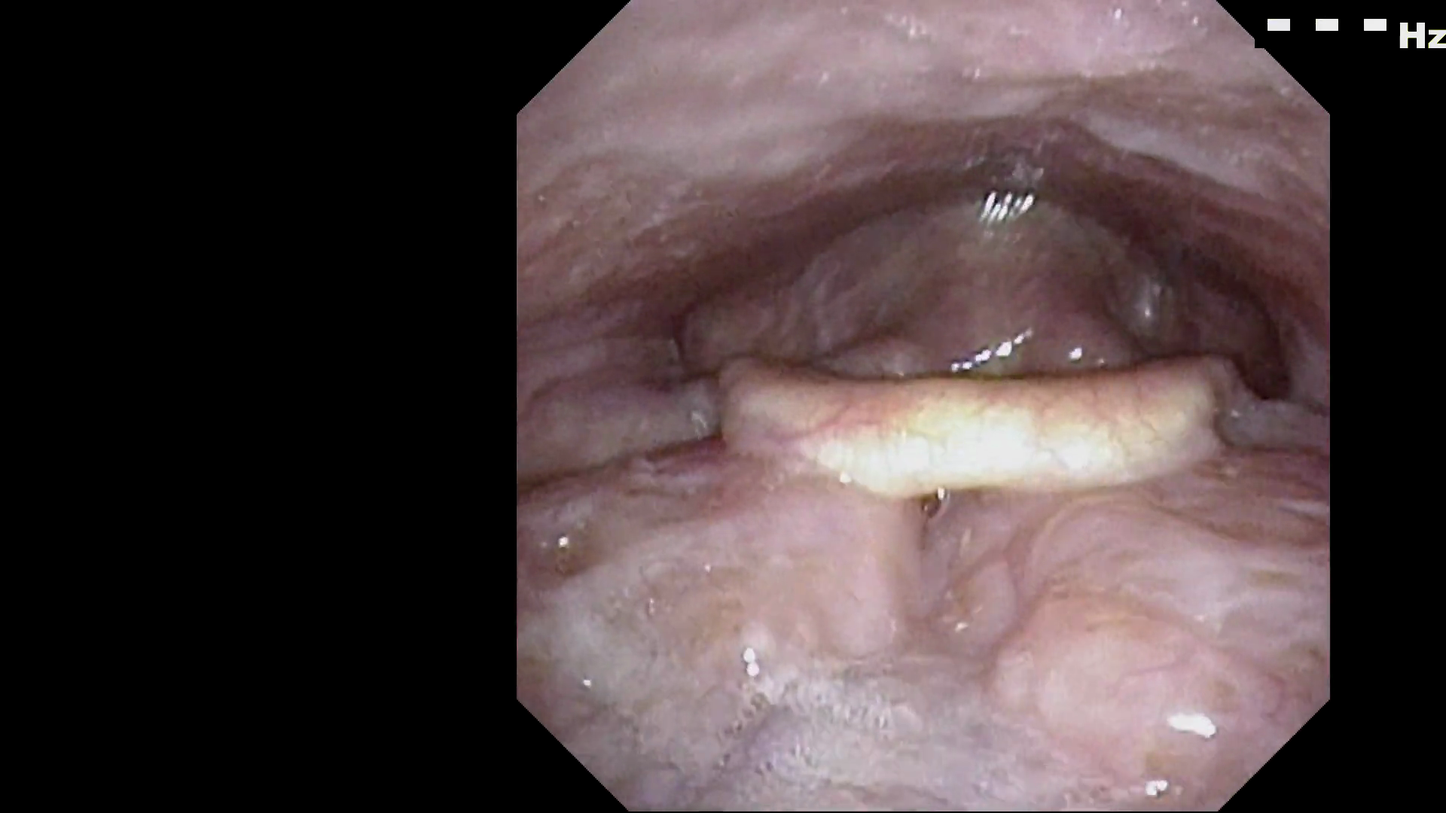epiglottis: (704, 336, 1277, 590)
trachea: (937, 353, 1056, 476)
